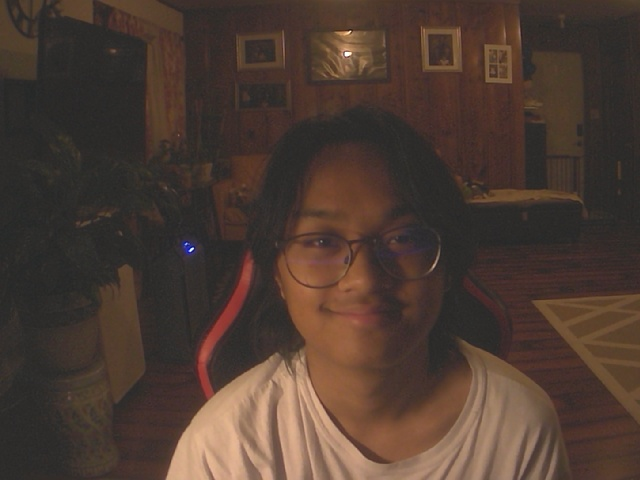happy: (243, 103, 477, 371)
